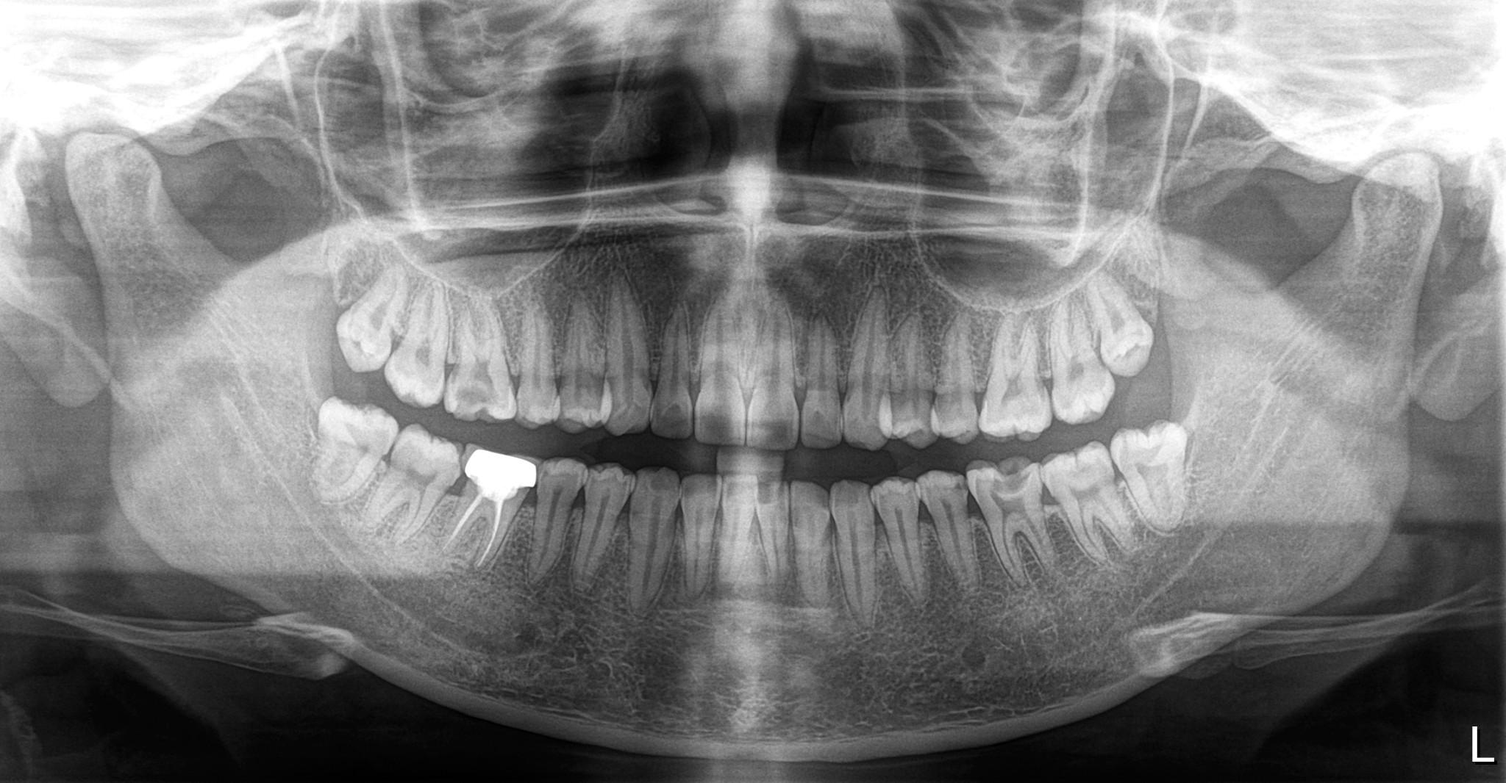Dental Caries: (444, 354, 504, 410), (991, 489, 1037, 549)
Endodontically Treated Tooth: (455, 452, 535, 570)
Impacted Third Molar: (306, 397, 388, 529), (1106, 426, 1191, 532)
